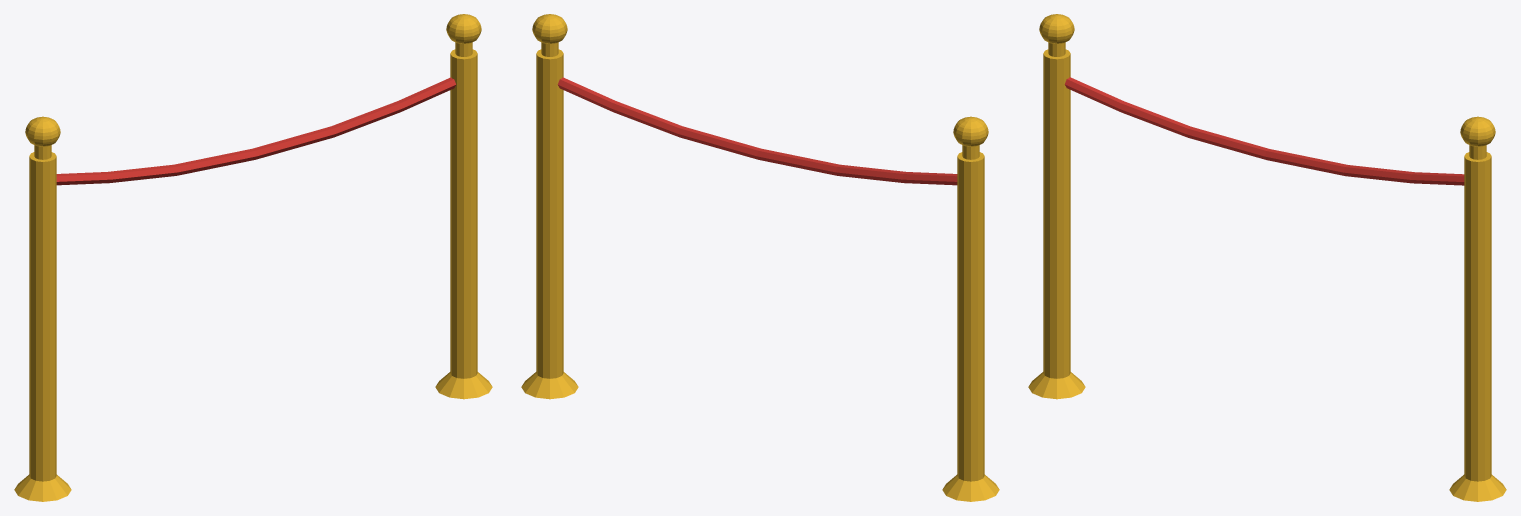
The model's file is fencemuseum.fbx.
The picture shows the model from 3 angles, left to right: view 1: azimuth 30°, elevation 25°; view 2: azimuth 150°, elevation 25°; view 3: azimuth 330°, elevation 25°; orthographic projection.
Visible parts, largest first — view 1: Cylinder.001; view 2: Cylinder.001; view 3: Cylinder.001.
Boxes of the visible parts, x1=… form: Cylinder.001: x1=14, y1=14, x2=492, y2=501; Cylinder.001: x1=521, y1=14, x2=999, y2=501; Cylinder.001: x1=1028, y1=14, x2=1506, y2=501.
Bounding box in the file's own units: 175 × 132 × 18.46.
